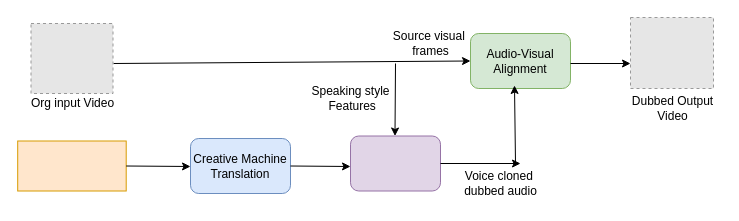
This 739x221 diagram has some shape labels left out. Grey dashed boxes stand in for pictures. Here are the shapes that lost their labels. From the top down, the centre of each, then its label:
At (71,165): "Source Language Transcript".
At (395,163): "Text to Speech".
